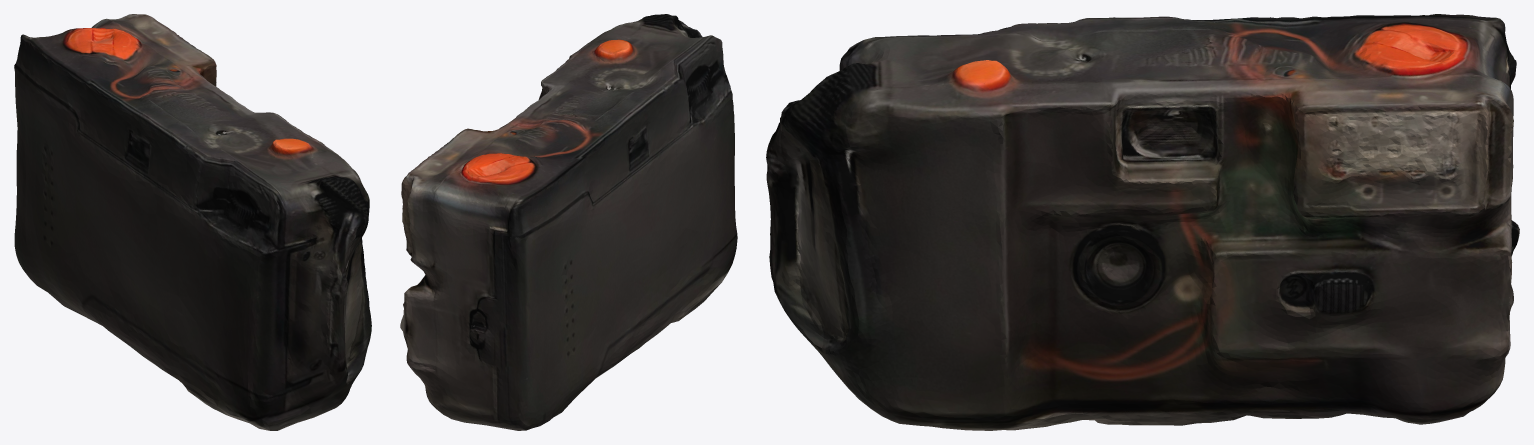
File: Film Camera.glb
3 renders of one model, left to right at view 1: azimuth 30°, elevation 25°; view 2: azimuth 150°, elevation 25°; view 3: azimuth 270°, elevation 25°, orthographic. The views are drawn at different scales.
Bounding box in the file's own units: 0.186 × 0.3275 × 0.6096.
1 material, 1 textured.
